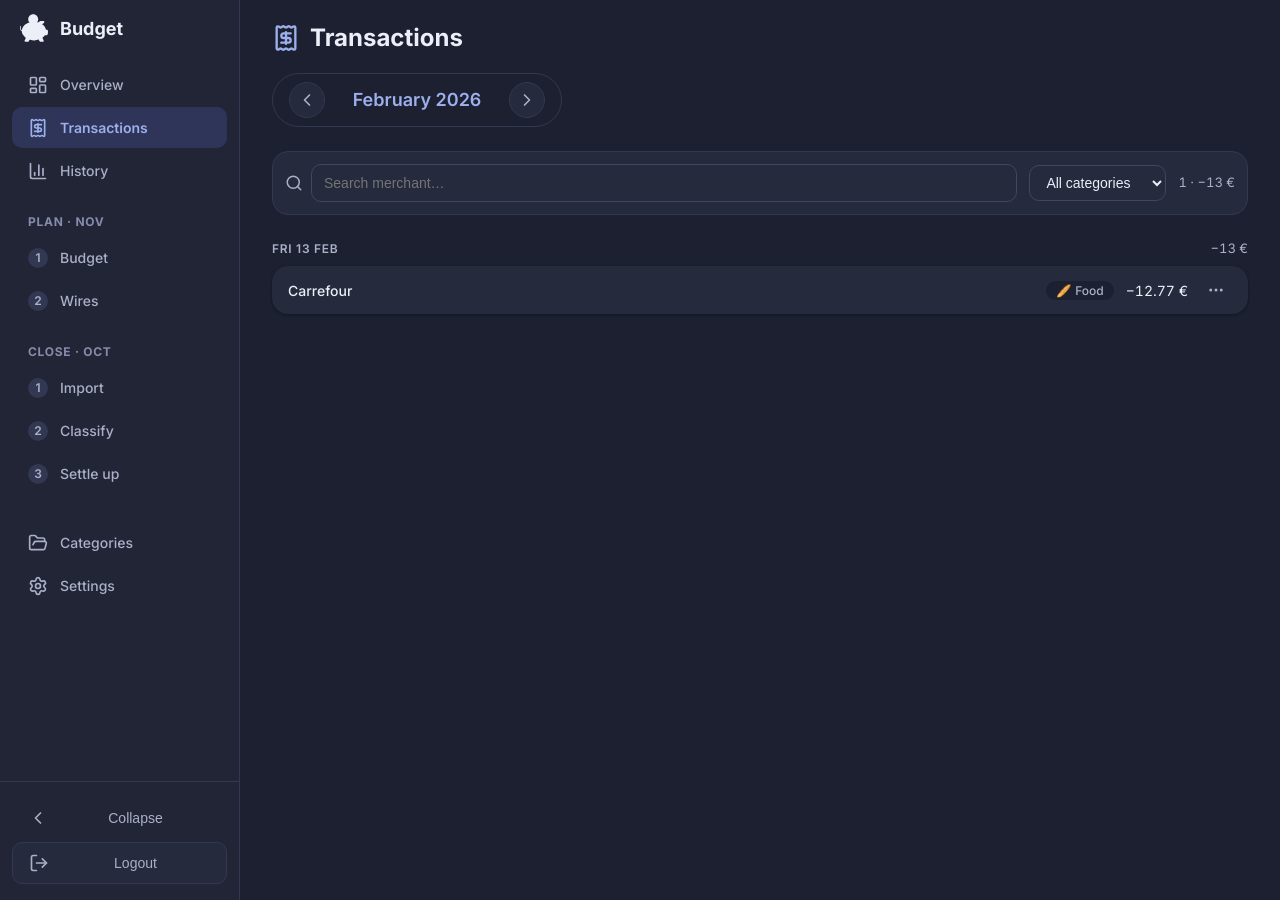
it: Transactions Page › should keep Exclude and Reimburse in the row menu
Expected: the text "Carrefour" is shown, left=288, top=282, right=352, bottom=299
Expected: the menu item "Exclude" is not shown
Step 1. Click the button named "Actions for Carrefour" → (1216,290), box left=1200, top=274, right=1232, bottom=306
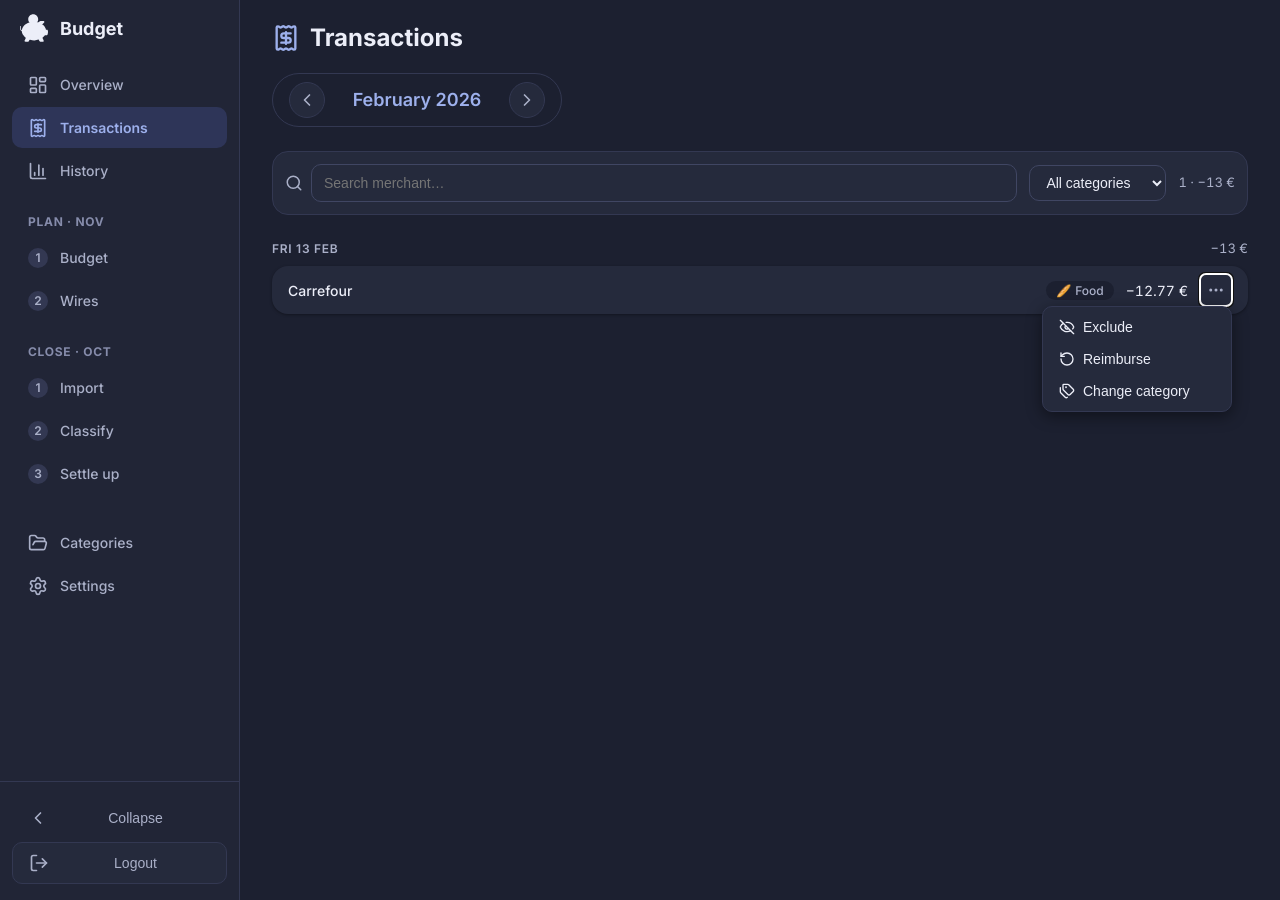
Now the menu item "Exclude" is shown, box left=1047, top=311, right=1227, bottom=343
Now the menu item "Reimburse" is shown, box left=1047, top=343, right=1227, bottom=375
Now the menu item "Change category" is shown, box left=1047, top=375, right=1227, bottom=407
